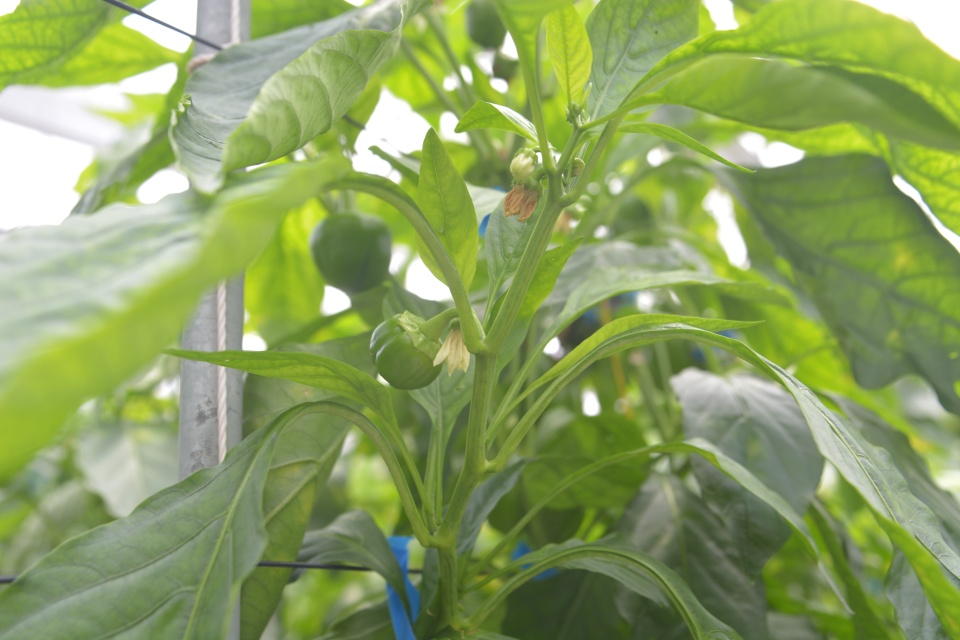flower: (429, 326, 472, 378)
immature: (308, 209, 396, 295), (367, 307, 445, 394)
